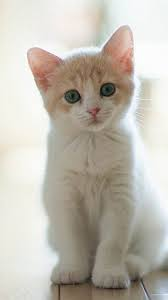cat: (22, 22, 168, 291)
